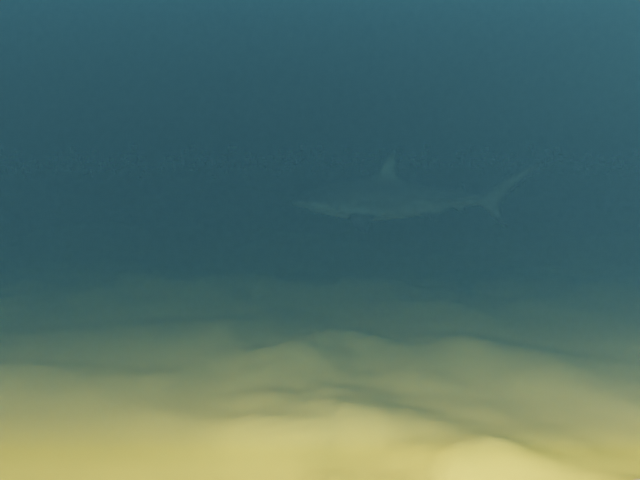Carribean Shark.001: (290, 151, 544, 233)
